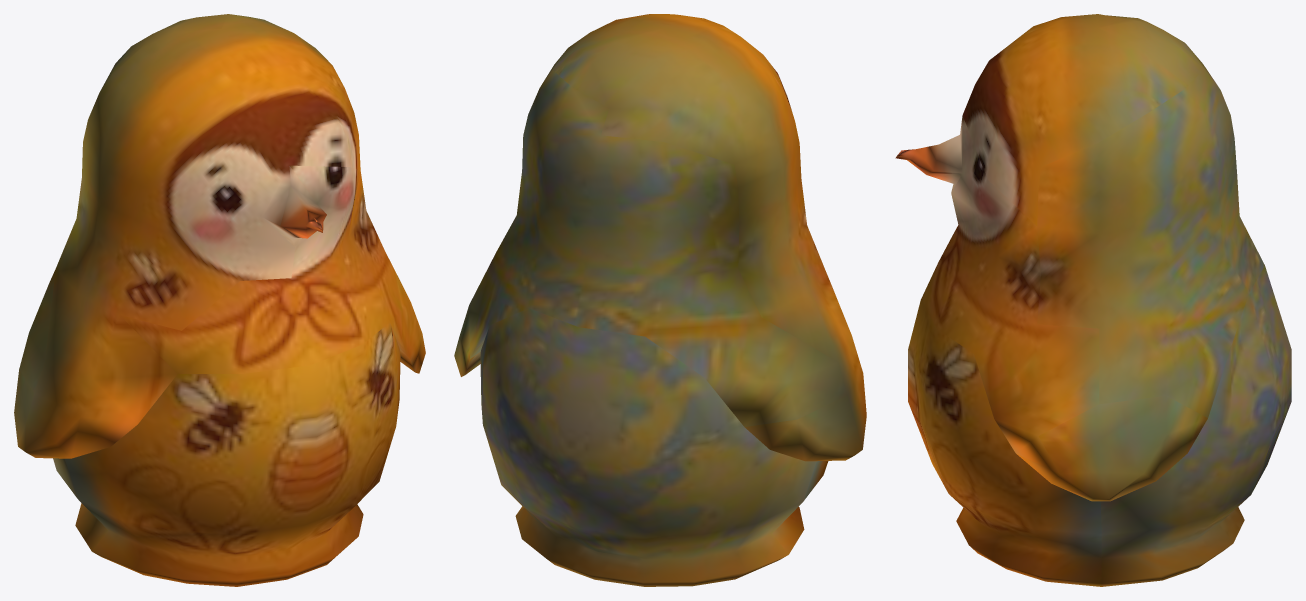
The model's file is penguin-06-33-amber-honey-penguin-doll.gltf.
The picture shows the model from 3 angles, left to right: view 1: azimuth 30°, elevation 25°; view 2: azimuth 150°, elevation 25°; view 3: azimuth 270°, elevation 25°; orthographic projection.
Visible parts, largest first — view 1: penguin-06-33-amber-honey-penguin-doll; view 2: penguin-06-33-amber-honey-penguin-doll; view 3: penguin-06-33-amber-honey-penguin-doll.
Part boxes in pixels (x1,y1,x2,y2): penguin-06-33-amber-honey-penguin-doll: (14, 14, 425, 586); penguin-06-33-amber-honey-penguin-doll: (454, 14, 866, 586); penguin-06-33-amber-honey-penguin-doll: (895, 14, 1291, 586).
Bounding box in the file's own units: 0.2 × 0.2497 × 0.173.
Materials: 1 (1 with a texture image).
